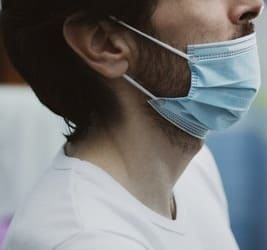with_incorrect_mask: (147, 1, 263, 137)
